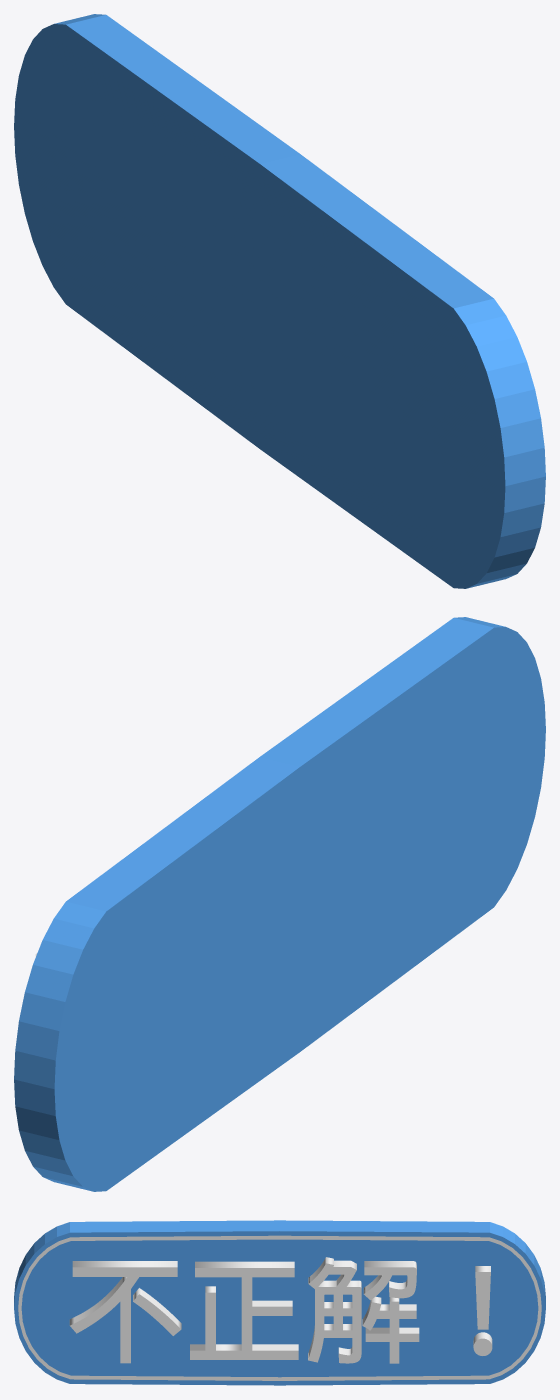
Rendered from huseikai_button.glb.
The picture shows the model from 3 angles, top to bottom: view 1: azimuth 30°, elevation 25°; view 2: azimuth 150°, elevation 25°; view 3: azimuth 270°, elevation 25°; orthographic projection. The views are drawn at different scales.
Visible parts, largest first — view 1: 円柱; view 2: 円柱; view 3: 円柱, テキスト.
Boxes of the visible parts, x1=… form: 円柱: x1=14, y1=14, x2=545, y2=588; 円柱: x1=14, y1=617, x2=545, y2=1191; 円柱: x1=14, y1=1220, x2=545, y2=1385; テキスト: x1=69, y1=1257, x2=492, y2=1363.
Bounding box in the file's own units: 0.5106 × 2 × 6.25.
2 materials, 2 textured.
